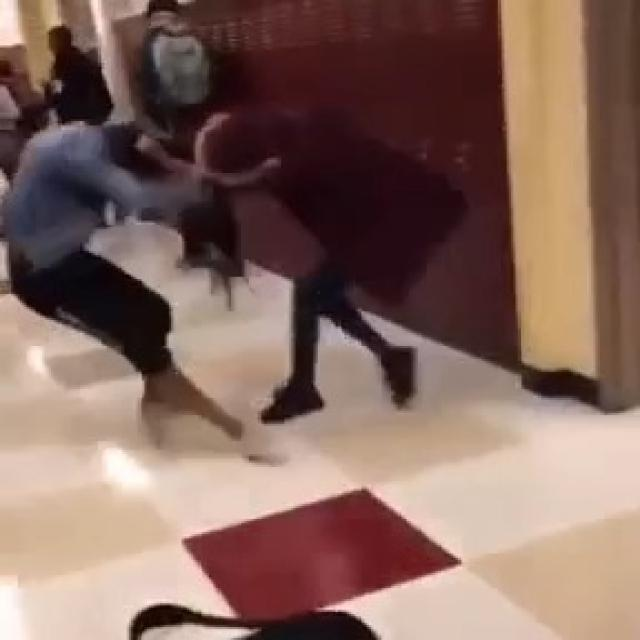fight: (0, 88, 464, 426)
